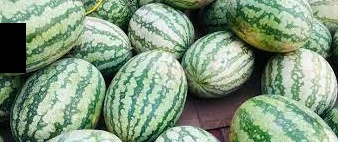watermelon: (106, 49, 190, 134), (16, 60, 103, 142), (259, 49, 338, 118), (186, 31, 253, 101), (131, 3, 196, 54)
